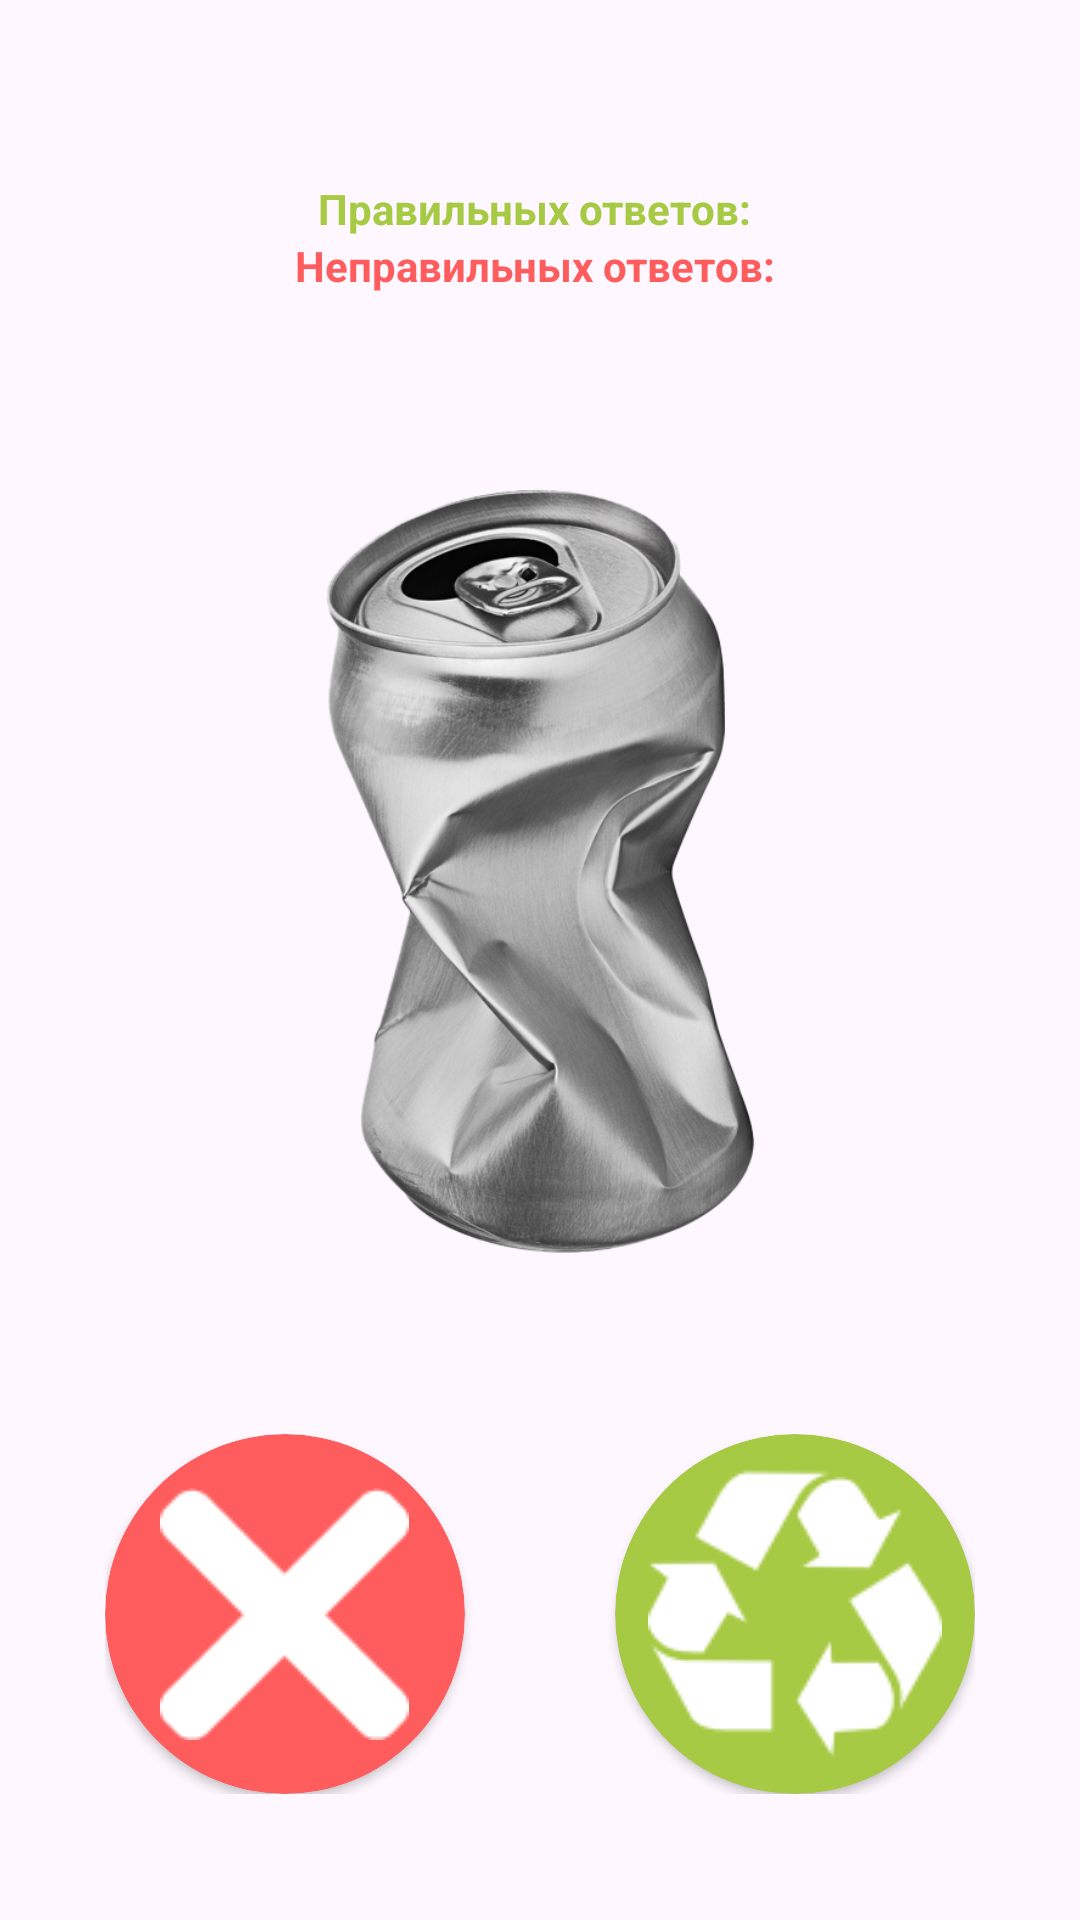

Where icons sit on this 1080 x 1920 app screen, as bbox=(x1, y1, x2, y2):
The item can be recycled: bbox=(648, 1470, 942, 1756)
The item cannot be recycled: bbox=(160, 1488, 409, 1740)
